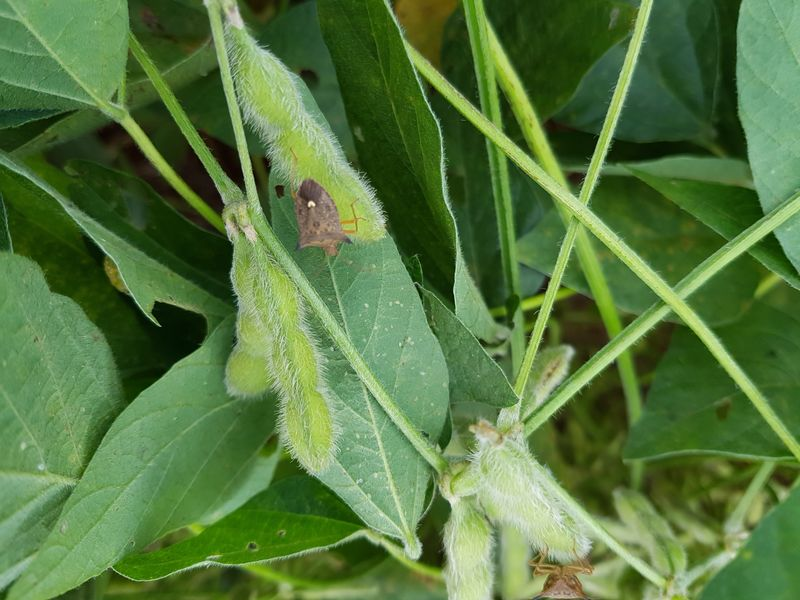Euschistus_heros_adulto: (269, 143, 372, 267), (520, 537, 603, 600)
